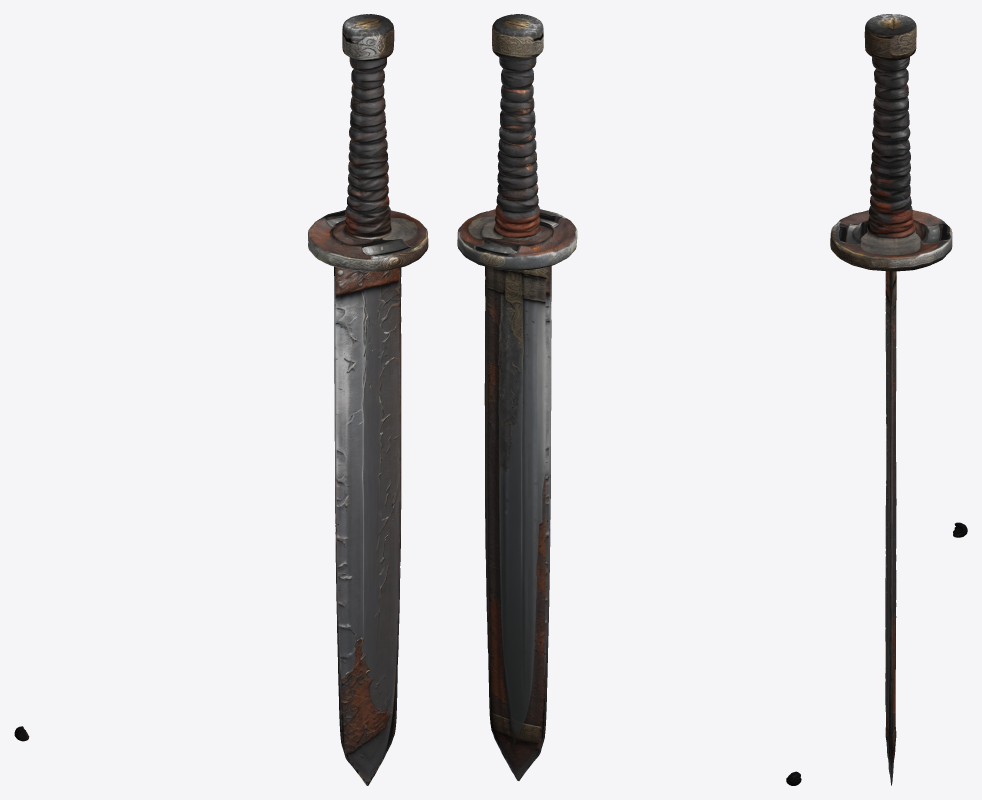
File: AI_WeatheredKatana.fbx
The picture shows the model from 3 angles, left to right: view 1: azimuth 30°, elevation 25°; view 2: azimuth 150°, elevation 25°; view 3: azimuth 270°, elevation 25°; orthographic projection.
Visible parts, largest first — view 1: Mesh1; view 2: Mesh1; view 3: Mesh1.
Boxes of the visible parts, box(x1,y1,x2,y2) form: Mesh1: box(14, 14, 428, 785); Mesh1: box(457, 14, 801, 785); Mesh1: box(830, 14, 967, 785).
Bounding box in the file's own units: 102 × 201 × 32.69.
1 material, 1 textured.
